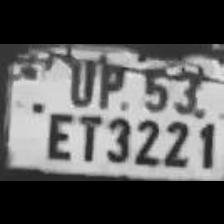1: (191, 116, 219, 168)
2: (130, 112, 160, 164), (160, 116, 190, 166)
3: (169, 63, 207, 111), (100, 111, 130, 164)
5: (134, 62, 170, 108)
E: (42, 106, 76, 162)
P: (94, 56, 130, 106)
T: (72, 108, 102, 162)
U: (62, 52, 96, 104)
